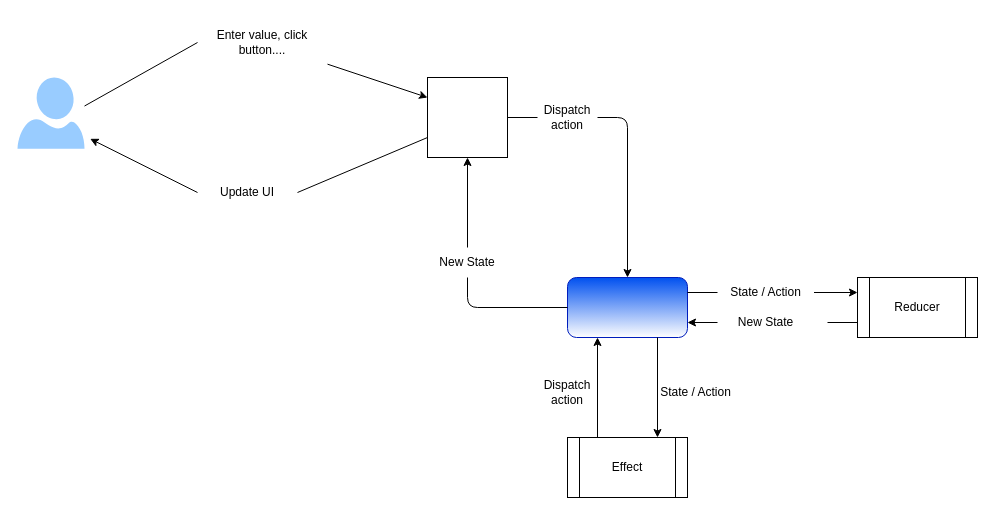
This 995x515 diagram has some shape labels left out. The centre of each missing label's shape, as x and y in pixels:
"Component" belongs at (467,117).
"Store" belongs at (627,307).
